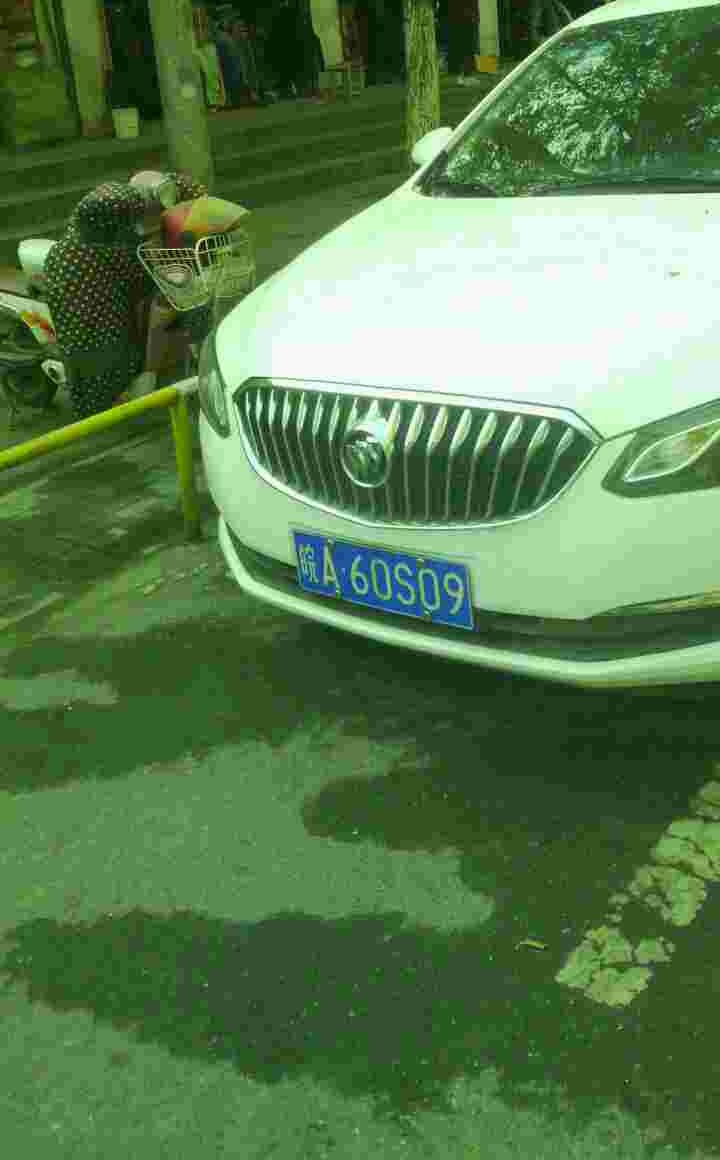license_plate: (280, 534, 484, 630)
